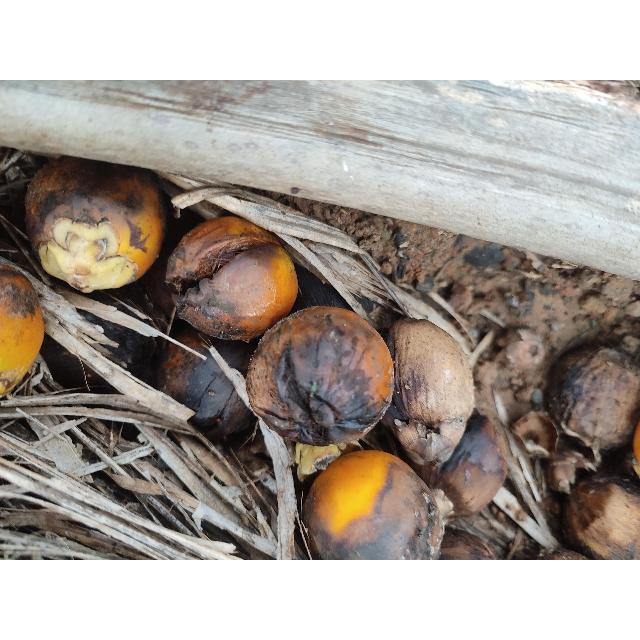damaged: (25, 157, 168, 291), (163, 218, 295, 340), (248, 308, 368, 442), (304, 446, 416, 558), (153, 326, 257, 440), (544, 342, 640, 453), (388, 320, 474, 436), (46, 298, 156, 388), (421, 413, 512, 517), (560, 468, 640, 560), (0, 261, 46, 393), (226, 429, 284, 497), (36, 332, 100, 392), (500, 271, 562, 321), (487, 372, 537, 428), (544, 300, 600, 350), (511, 412, 559, 458), (503, 334, 547, 376), (100, 470, 170, 496), (544, 456, 584, 494), (362, 300, 402, 336), (104, 415, 148, 447), (535, 490, 565, 534), (182, 198, 228, 222), (0, 224, 26, 266), (462, 245, 508, 267), (528, 545, 598, 559), (580, 294, 614, 322), (448, 285, 474, 315), (432, 254, 458, 284), (479, 308, 509, 330), (554, 280, 584, 300), (526, 253, 550, 277), (620, 334, 640, 354), (192, 501, 206, 529), (4, 166, 22, 184), (414, 276, 434, 292), (396, 257, 408, 281), (394, 230, 408, 248), (550, 263, 580, 271), (378, 260, 394, 274), (436, 228, 449, 236)
